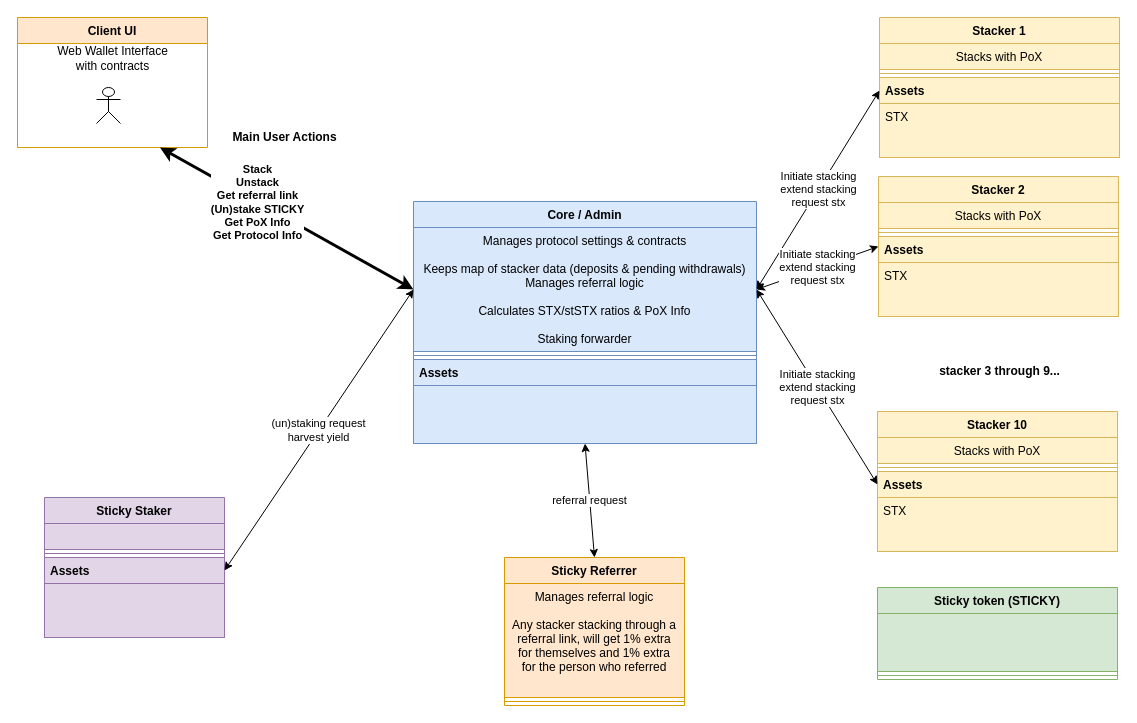
The diagram is 1137 pixels wide and 723 high, and some of its shapes have lost their labels. Each missing label, with the centre of its shape:
"Actor" belongs at point 108,105.
"Manages staking logic" belongs at point 134,536.
"SIP10 token to bribe and earn yield through staking" belongs at point 997,642.
"STICKY STX" belongs at point 134,610.
"STX sBTC" belongs at point 584,414.
